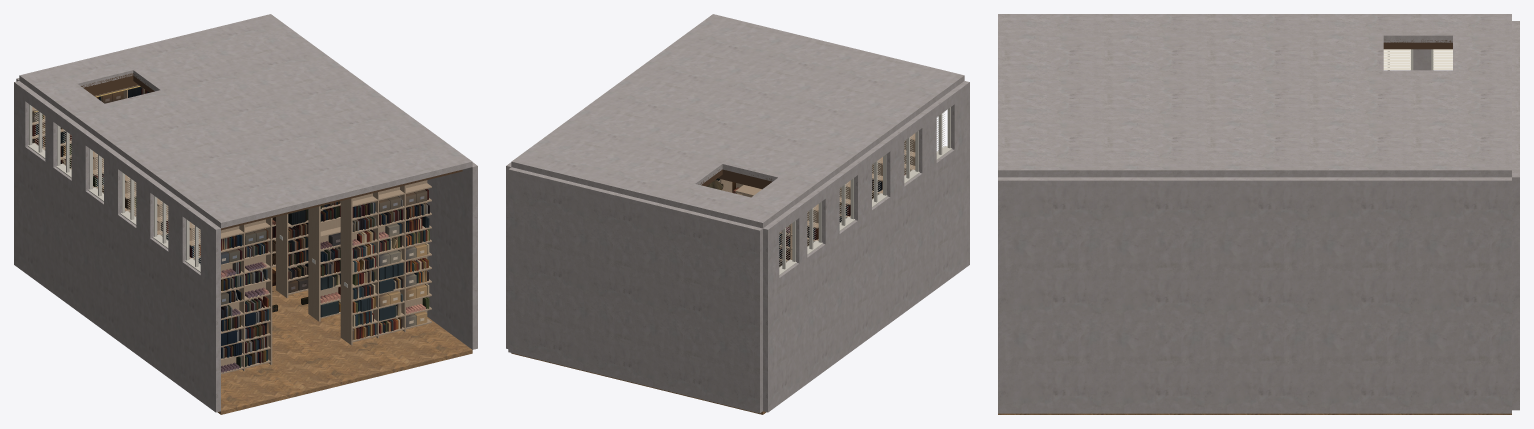
The model's file is archive.glb.
The picture shows the model from 3 angles, left to right: view 1: azimuth 30°, elevation 25°; view 2: azimuth 150°, elevation 25°; view 3: azimuth 270°, elevation 25°; orthographic projection. The views are drawn at different scales.
Visible parts, largest first — view 1: Archive_shell, Archive_books; view 2: Archive_shell, Archive_books; view 3: Archive_shell.
Part boxes in pixels (x1,y1,x2,y2): Archive_shell: (14,14,477,414); Archive_books: (32,85,429,372); Archive_shell: (506,14,969,414); Archive_books: (716,174,905,266); Archive_shell: (998,14,1519,414).
Size of the model in its own units: 7.5 by 5.25 by 10.15.
Materials: 47 (18 with a texture image).
